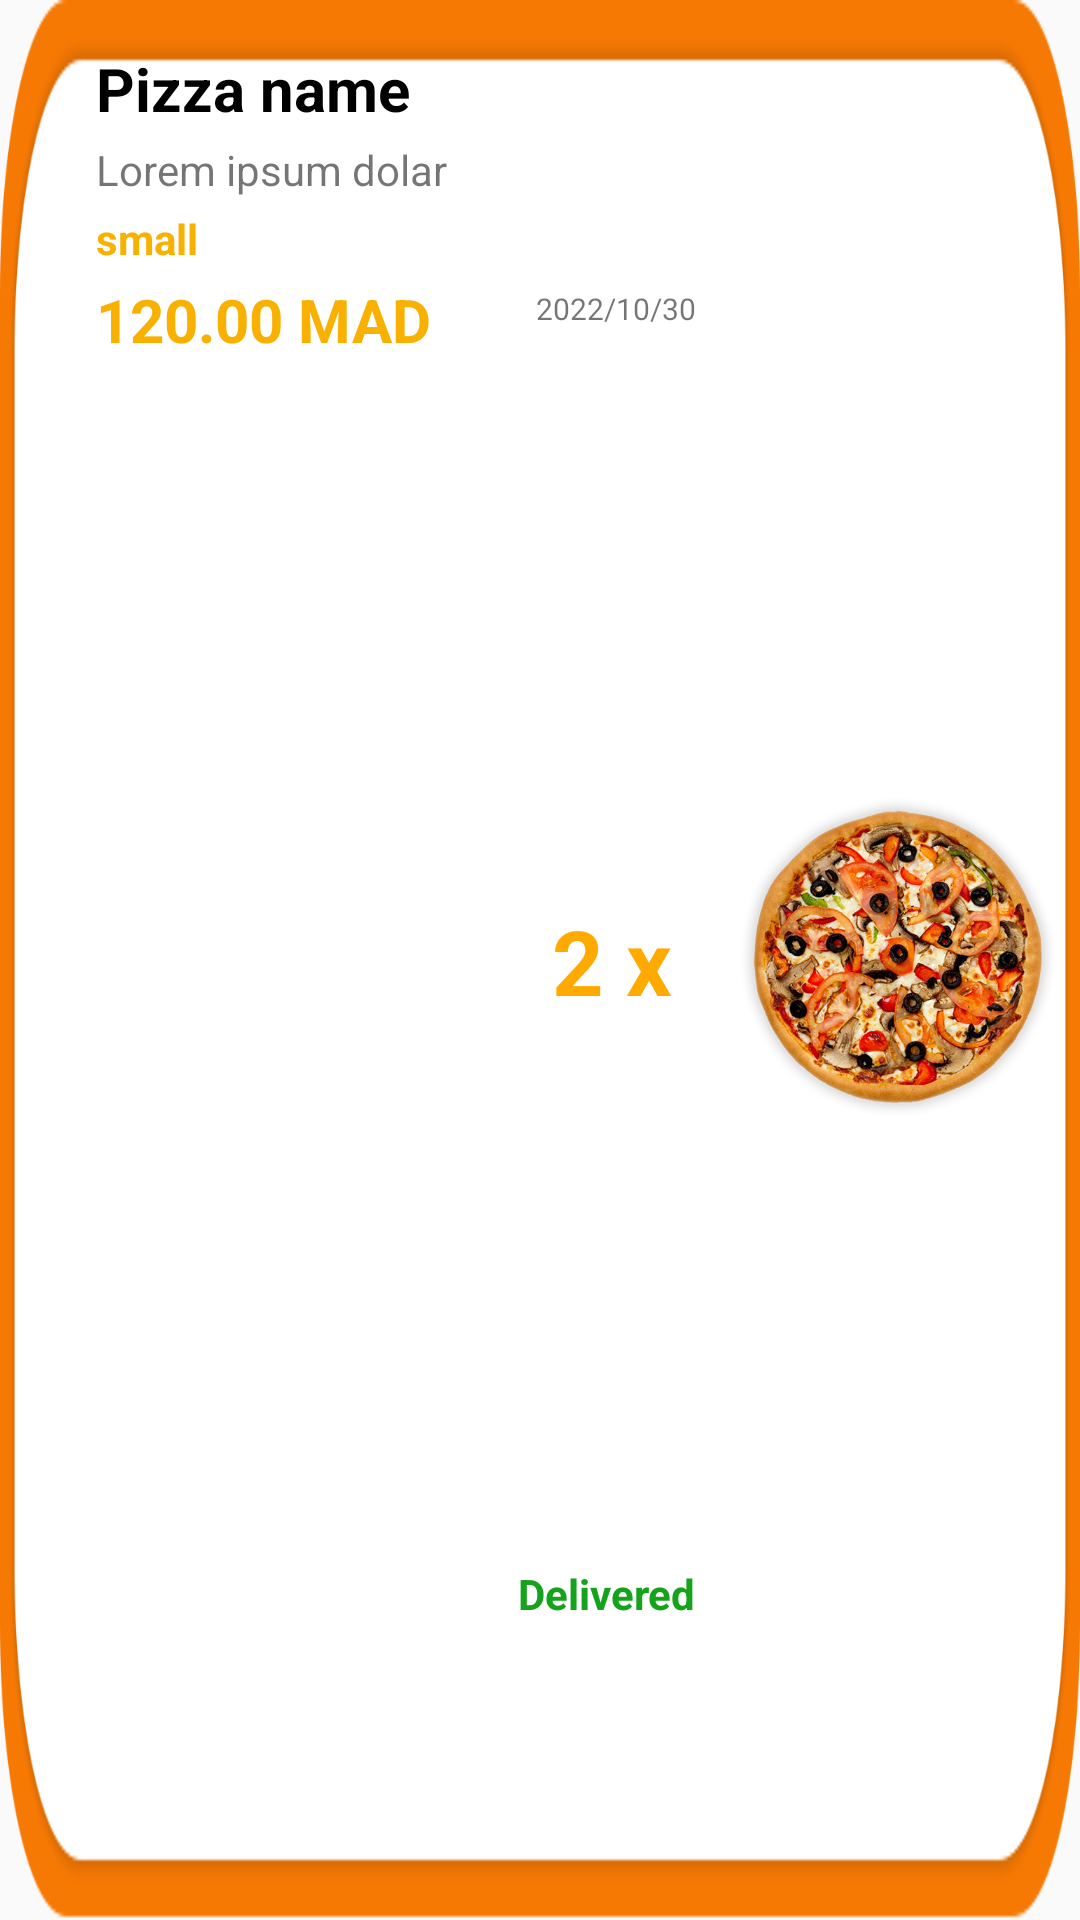

Named icons in this screenshot (1080x1920) and their bounding boxes, box(x1, y1, x2, y2):
pizza: box(751, 809, 1045, 1106)
